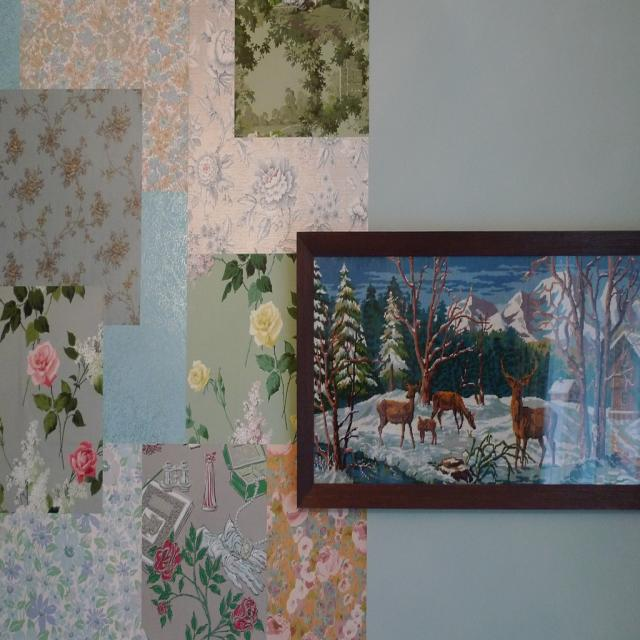Deer: (500, 355, 556, 465), (376, 382, 420, 445), (430, 388, 479, 436), (420, 420, 437, 442)
